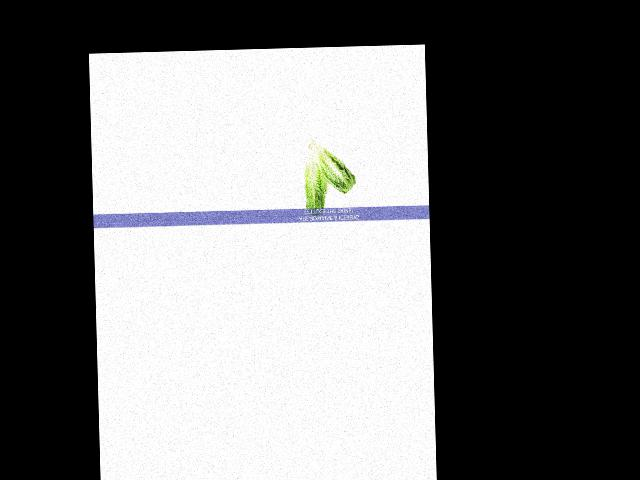lettuce: (308, 132, 353, 197)
